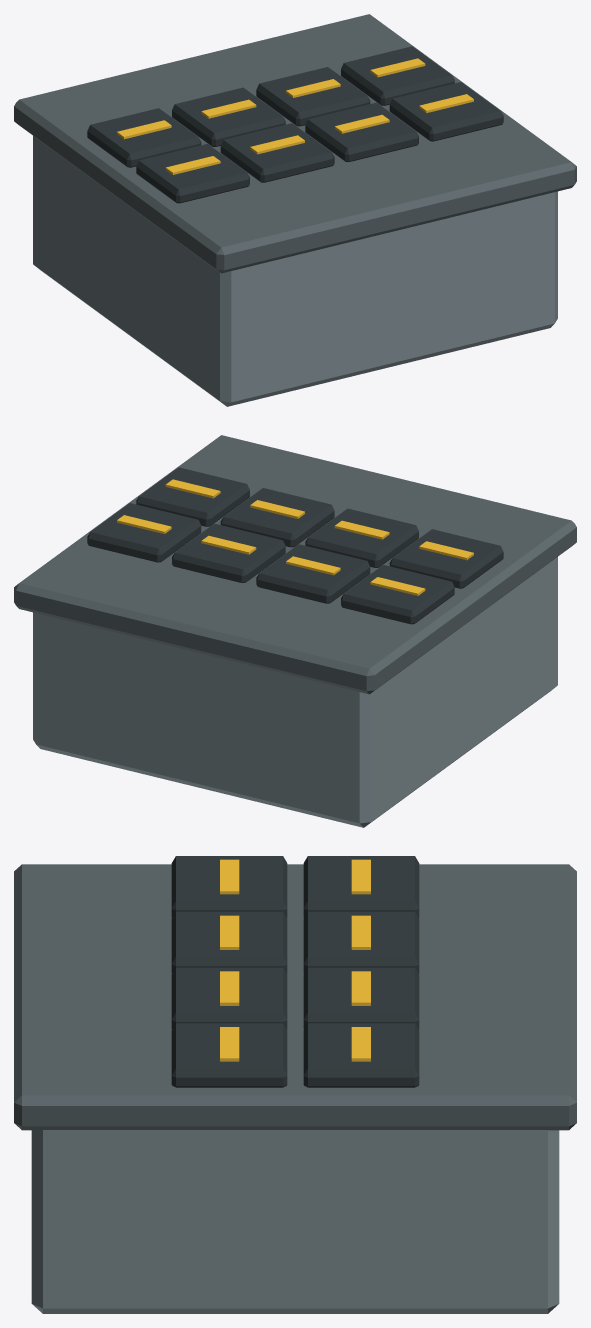
The model's file is MOD_VLS.fbx.
3 renders of one model, top to bottom at view 1: azimuth 30°, elevation 25°; view 2: azimuth 150°, elevation 25°; view 3: azimuth 270°, elevation 25°, orthographic. The views are drawn at different scales.
Visible parts, largest first — view 1: VLSBelowDeckCanister, VLSDeckFlange, VLSHatch_03, VLSHatch_07, VLSHatch_01, VLSHatch_05, VLSHatch_02, VLSHatch_06, VLSHatch_04, VLSHatch_08, HatchWarning_08, HatchWarning_03 (+5 smaller); view 2: VLSBelowDeckCanister, VLSDeckFlange, VLSHatch_04, VLSHatch_08, VLSHatch_02, VLSHatch_06, VLSHatch_01, VLSHatch_05, VLSHatch_03, VLSHatch_07, HatchWarning_07, HatchWarning_03 (+5 smaller); view 3: VLSDeckFlange, VLSBelowDeckCanister, VLSHatch_07, VLSHatch_08, VLSHatch_05, VLSHatch_06, VLSHatch_03, VLSHatch_04, VLSHatch_01, VLSHatch_02, HatchWarning_01, HatchWarning_02 (+6 smaller).
Boxes of the visible parts, x1=… form: VLSBelowDeckCanister: x1=33, y1=136, x2=557, y2=406; VLSDeckFlange: x1=14, y1=14, x2=576, y2=273; VLSHatch_03: x1=220, y1=123, x2=334, y2=182; VLSHatch_07: x1=389, y1=82, x2=503, y2=141; VLSHatch_01: x1=136, y1=144, x2=249, y2=203; VLSHatch_05: x1=305, y1=102, x2=418, y2=161; VLSHatch_02: x1=87, y1=108, x2=201, y2=167; VLSHatch_06: x1=256, y1=67, x2=370, y2=126; VLSHatch_04: x1=172, y1=87, x2=285, y2=146; VLSHatch_08: x1=341, y1=46, x2=454, y2=105; HatchWarning_08: x1=370, y1=58, x2=425, y2=77; HatchWarning_03: x1=250, y1=135, x2=304, y2=154; VLSBelowDeckCanister: x1=33, y1=557, x2=557, y2=827; VLSDeckFlange: x1=14, y1=435, x2=576, y2=694; VLSHatch_04: x1=256, y1=544, x2=370, y2=603; VLSHatch_08: x1=87, y1=503, x2=201, y2=562; VLSHatch_02: x1=341, y1=565, x2=454, y2=624; VLSHatch_06: x1=172, y1=523, x2=285, y2=582; VLSHatch_01: x1=389, y1=529, x2=503, y2=588; VLSHatch_05: x1=220, y1=488, x2=334, y2=547; VLSHatch_03: x1=305, y1=508, x2=418, y2=567; VLSHatch_07: x1=136, y1=467, x2=249, y2=526; HatchWarning_07: x1=165, y1=479, x2=220, y2=498; HatchWarning_03: x1=334, y1=520, x2=389, y2=539; VLSDeckFlange: x1=14, y1=864, x2=576, y2=1130; VLSBelowDeckCanister: x1=31, y1=1130, x2=559, y2=1313; VLSHatch_07: x1=171, y1=1023, x2=287, y2=1087; VLSHatch_08: x1=303, y1=1023, x2=419, y2=1087; VLSHatch_05: x1=171, y1=967, x2=287, y2=1029; VLSHatch_06: x1=303, y1=967, x2=419, y2=1029; VLSHatch_03: x1=171, y1=911, x2=287, y2=973; VLSHatch_04: x1=303, y1=911, x2=419, y2=973; VLSHatch_01: x1=171, y1=856, x2=287, y2=917; VLSHatch_02: x1=303, y1=856, x2=419, y2=917; HatchWarning_01: x1=220, y1=859, x2=239, y2=894; HatchWarning_02: x1=351, y1=859, x2=370, y2=894.
Size of the model in its own units: 175 by 85.1 by 175.
